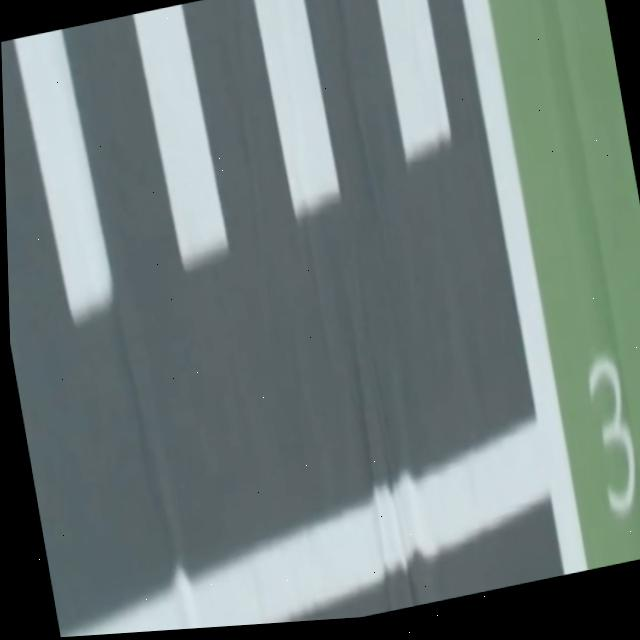right: (463, 0, 587, 575)
